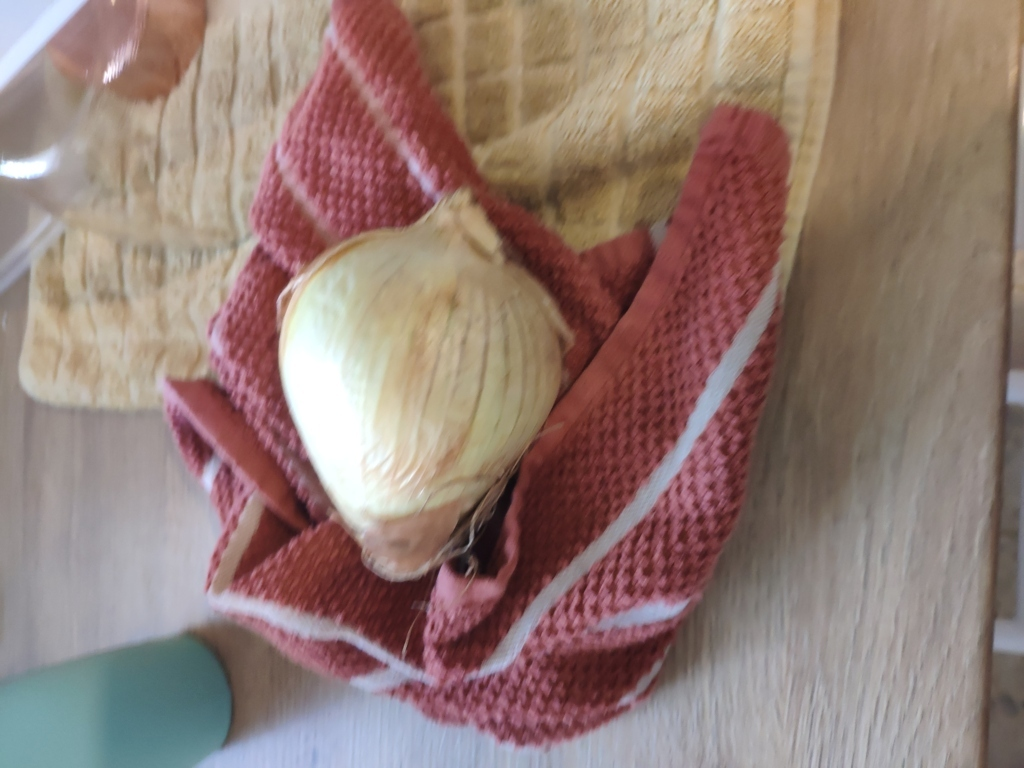Onion: (254, 217, 577, 554)
